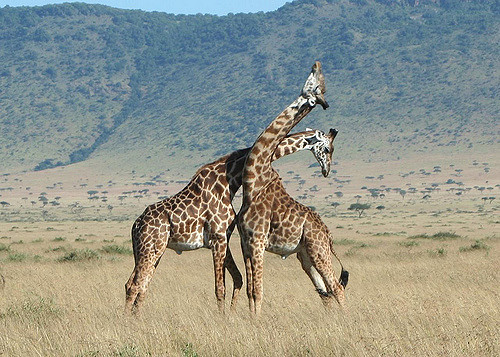giraffe: (112, 119, 357, 316), (246, 55, 358, 313)
